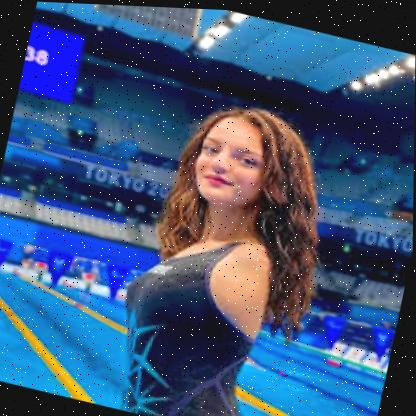person: (178, 94, 304, 228)
